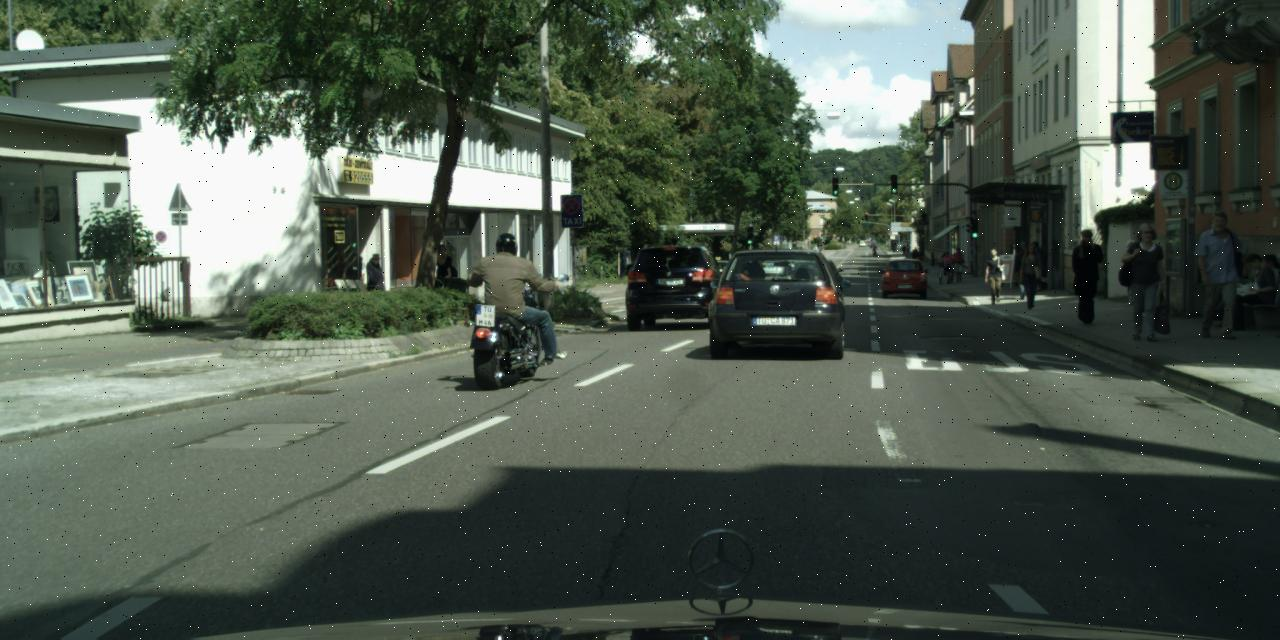ped: (483, 232, 535, 360), (1192, 211, 1243, 336), (1122, 223, 1169, 339), (1068, 228, 1106, 323), (1018, 242, 1044, 308), (1120, 238, 1146, 302), (1013, 241, 1035, 297), (365, 252, 387, 307), (983, 248, 1005, 303), (1026, 240, 1045, 290), (950, 247, 964, 281), (941, 252, 954, 282), (910, 247, 919, 267), (901, 244, 905, 254)
